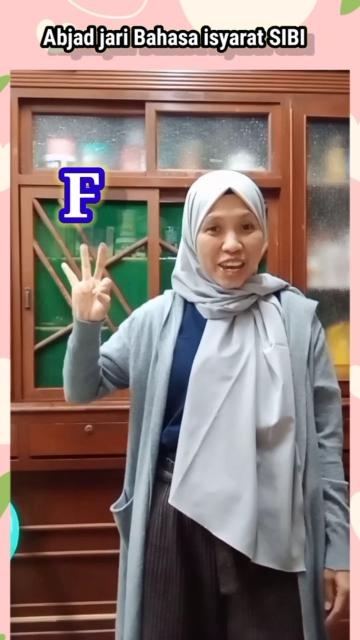F: (61, 236, 117, 324)
